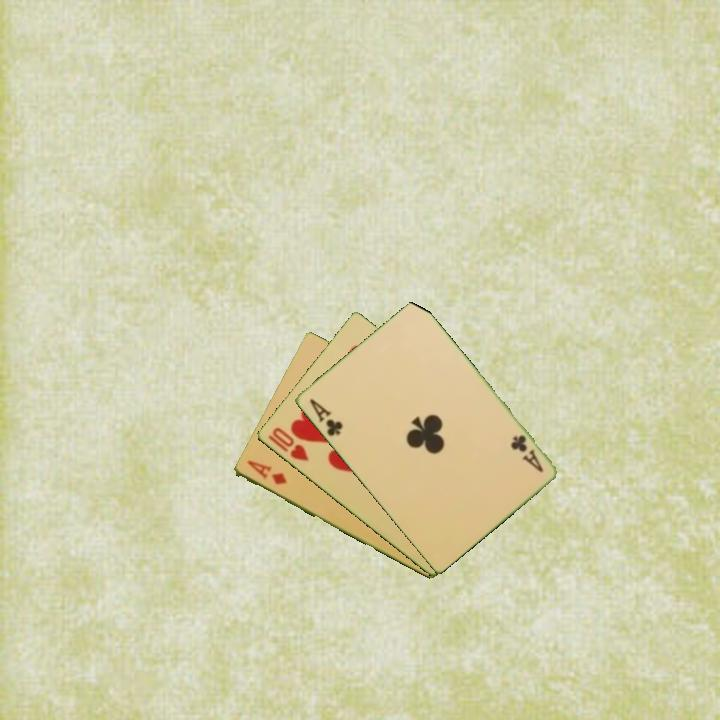10h: (264, 424, 312, 464)
Ac: (506, 431, 546, 476), (305, 395, 345, 439)
Ad: (243, 457, 289, 488)
